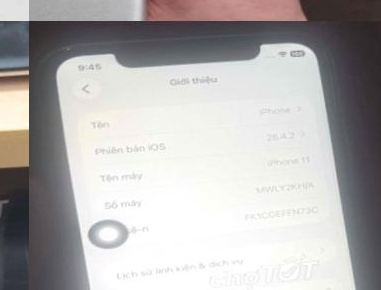scratch: (62, 43, 74, 51)
